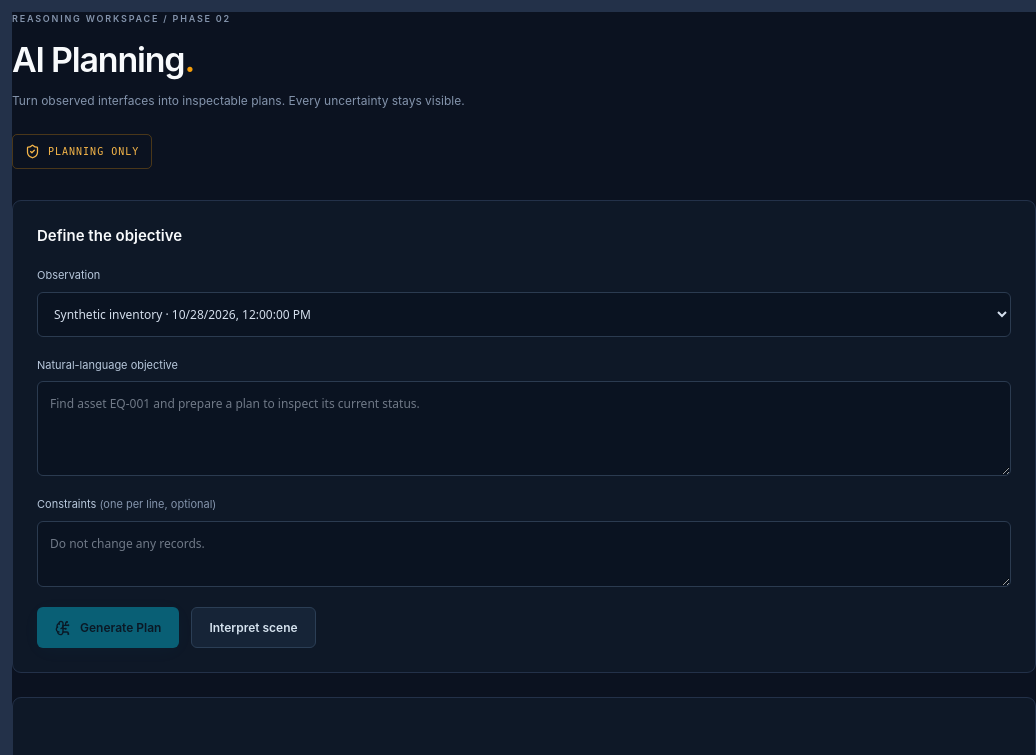
displays model request error
Replace the text in the text box labelled "Natural-language objective" with "Find EQ-001" at (524, 429), box x1=37 y1=381 x2=1011 y2=476
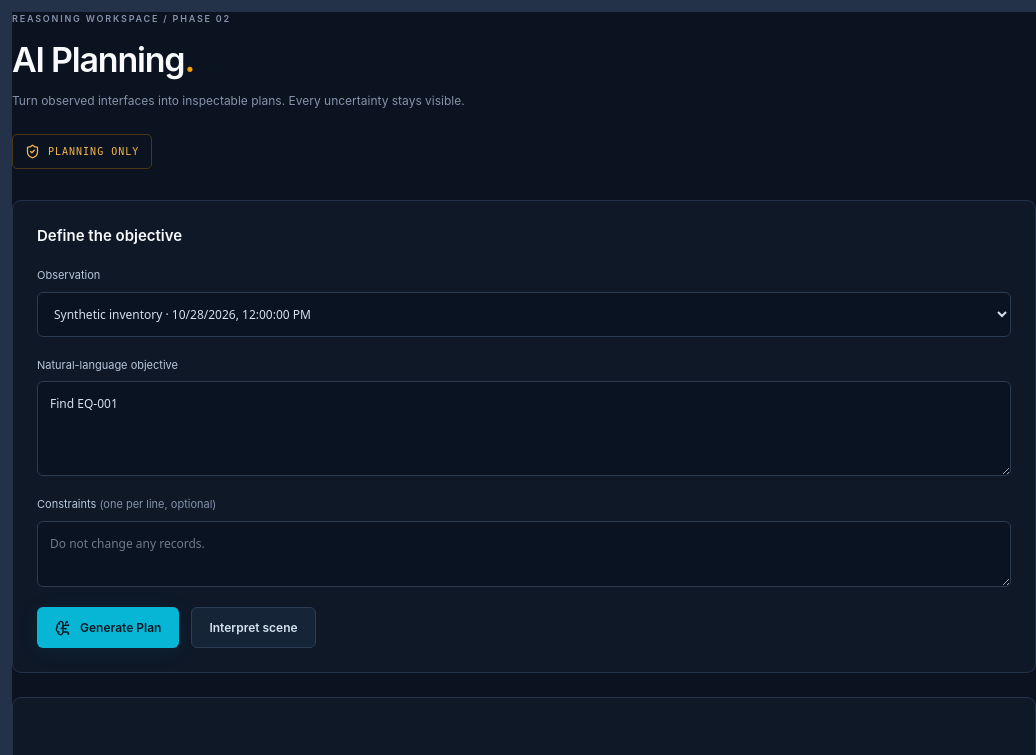
Click the button "Generate Plan" at (108, 628), box x1=37 y1=608 x2=179 y2=648
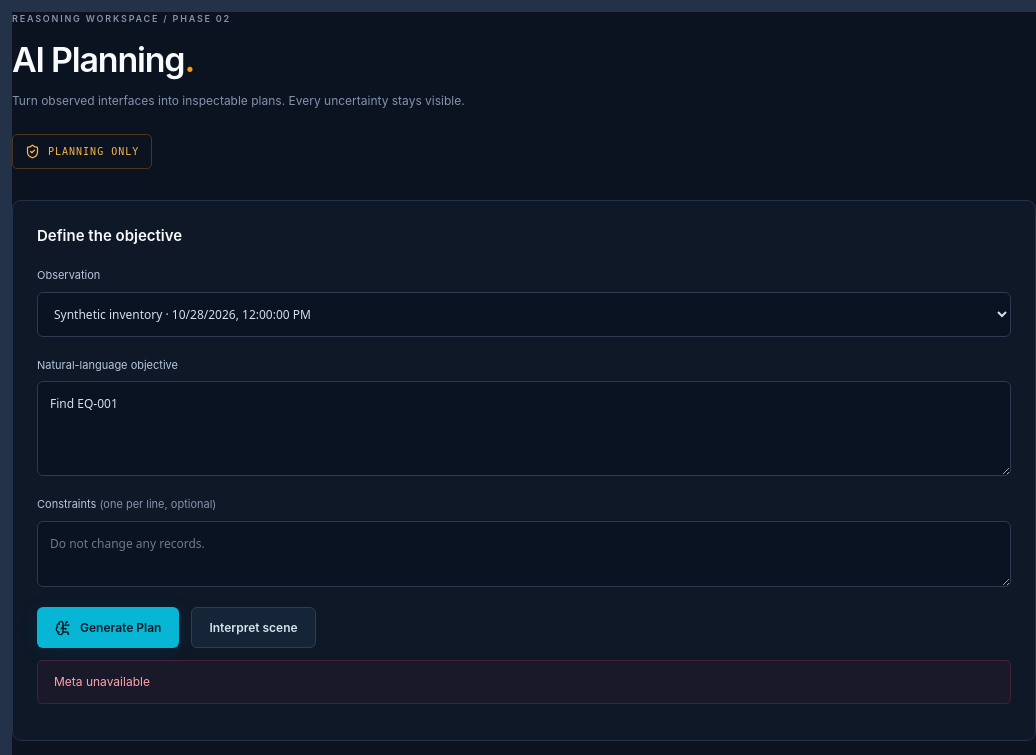
Now the message reads "Meta unavailable", box x1=54 y1=674 x2=150 y2=690
